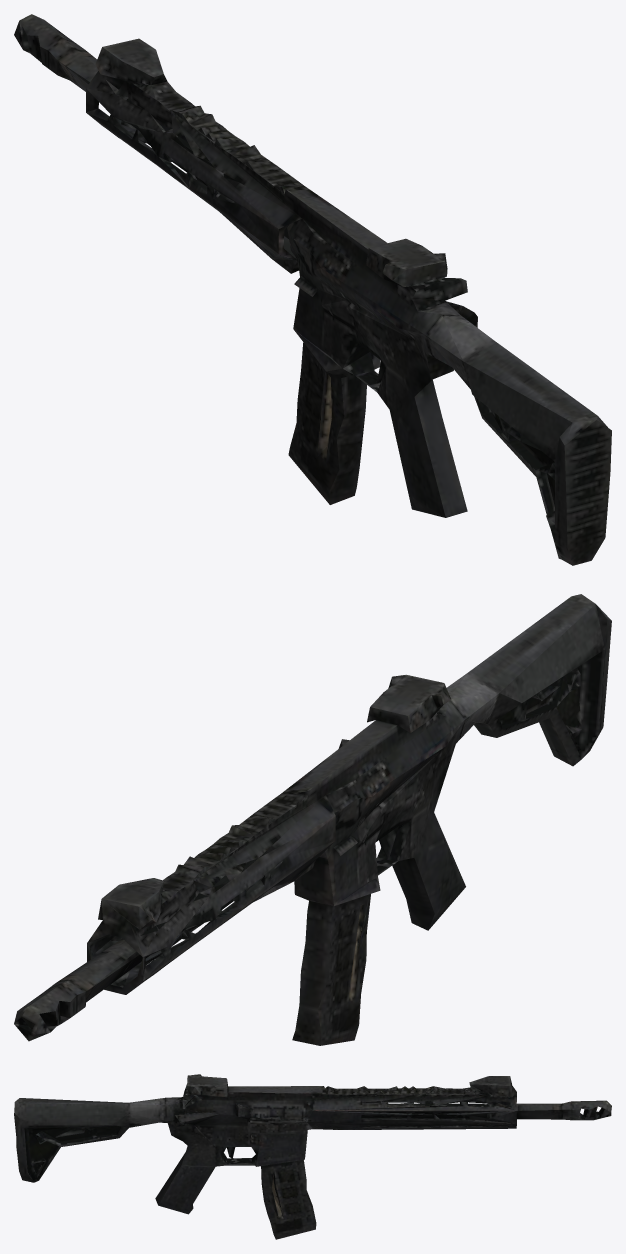
File: service_tp.glb
3 renders of one model, top to bottom at view 1: azimuth 30°, elevation 25°; view 2: azimuth 150°, elevation 25°; view 3: azimuth 270°, elevation 25°, orthographic. The views are drawn at different scales.
Parts seen in each view (by area): view 1: service_tp; view 2: service_tp; view 3: service_tp.
Part boxes in pixels (bbox=[...]): service_tp: bbox=[14, 14, 611, 565]; service_tp: bbox=[14, 594, 611, 1045]; service_tp: bbox=[14, 1074, 611, 1239].
Bounding box in the file's own units: 0.0661 × 0.2472 × 0.8485.
1 material, 1 textured.
